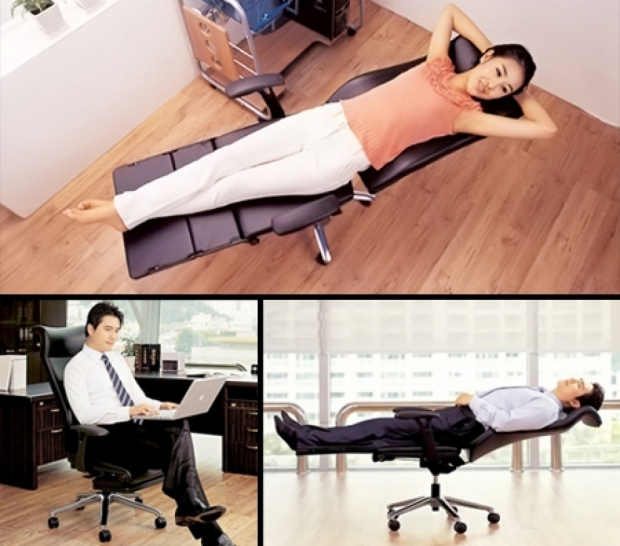chairs: (297, 406, 610, 535), (34, 326, 177, 542)
